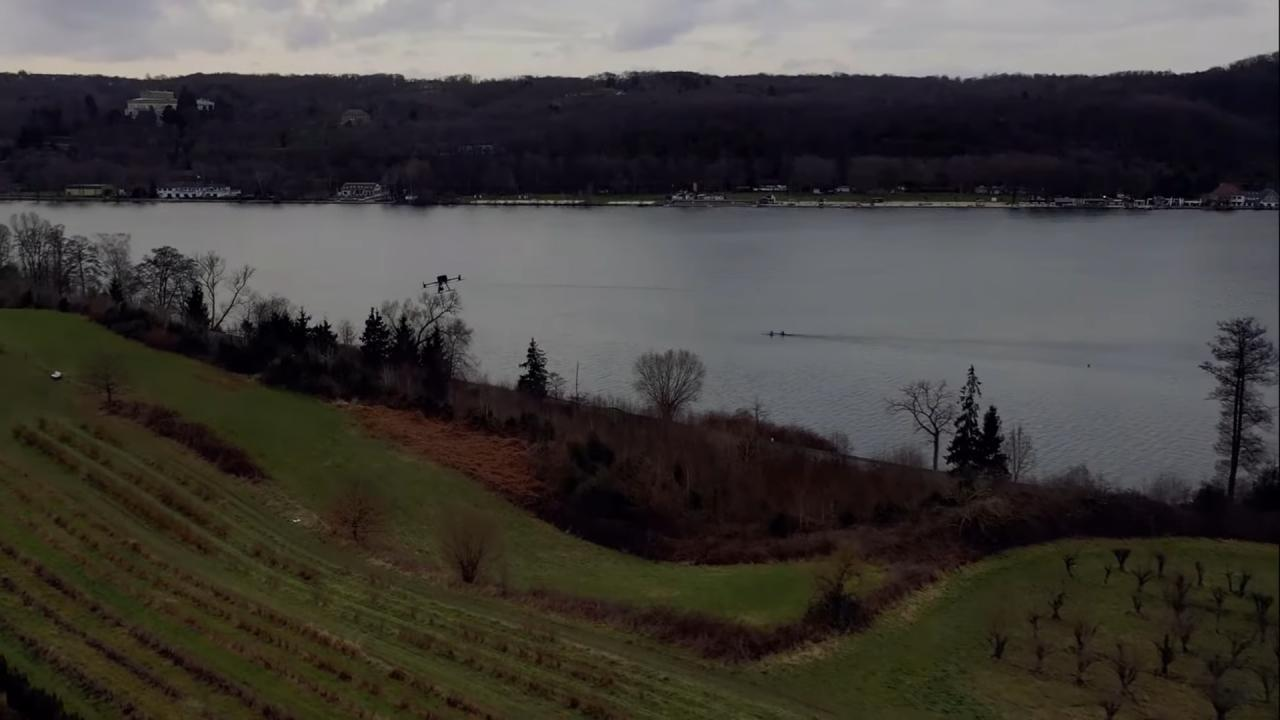Drone: (417, 268, 469, 300)
